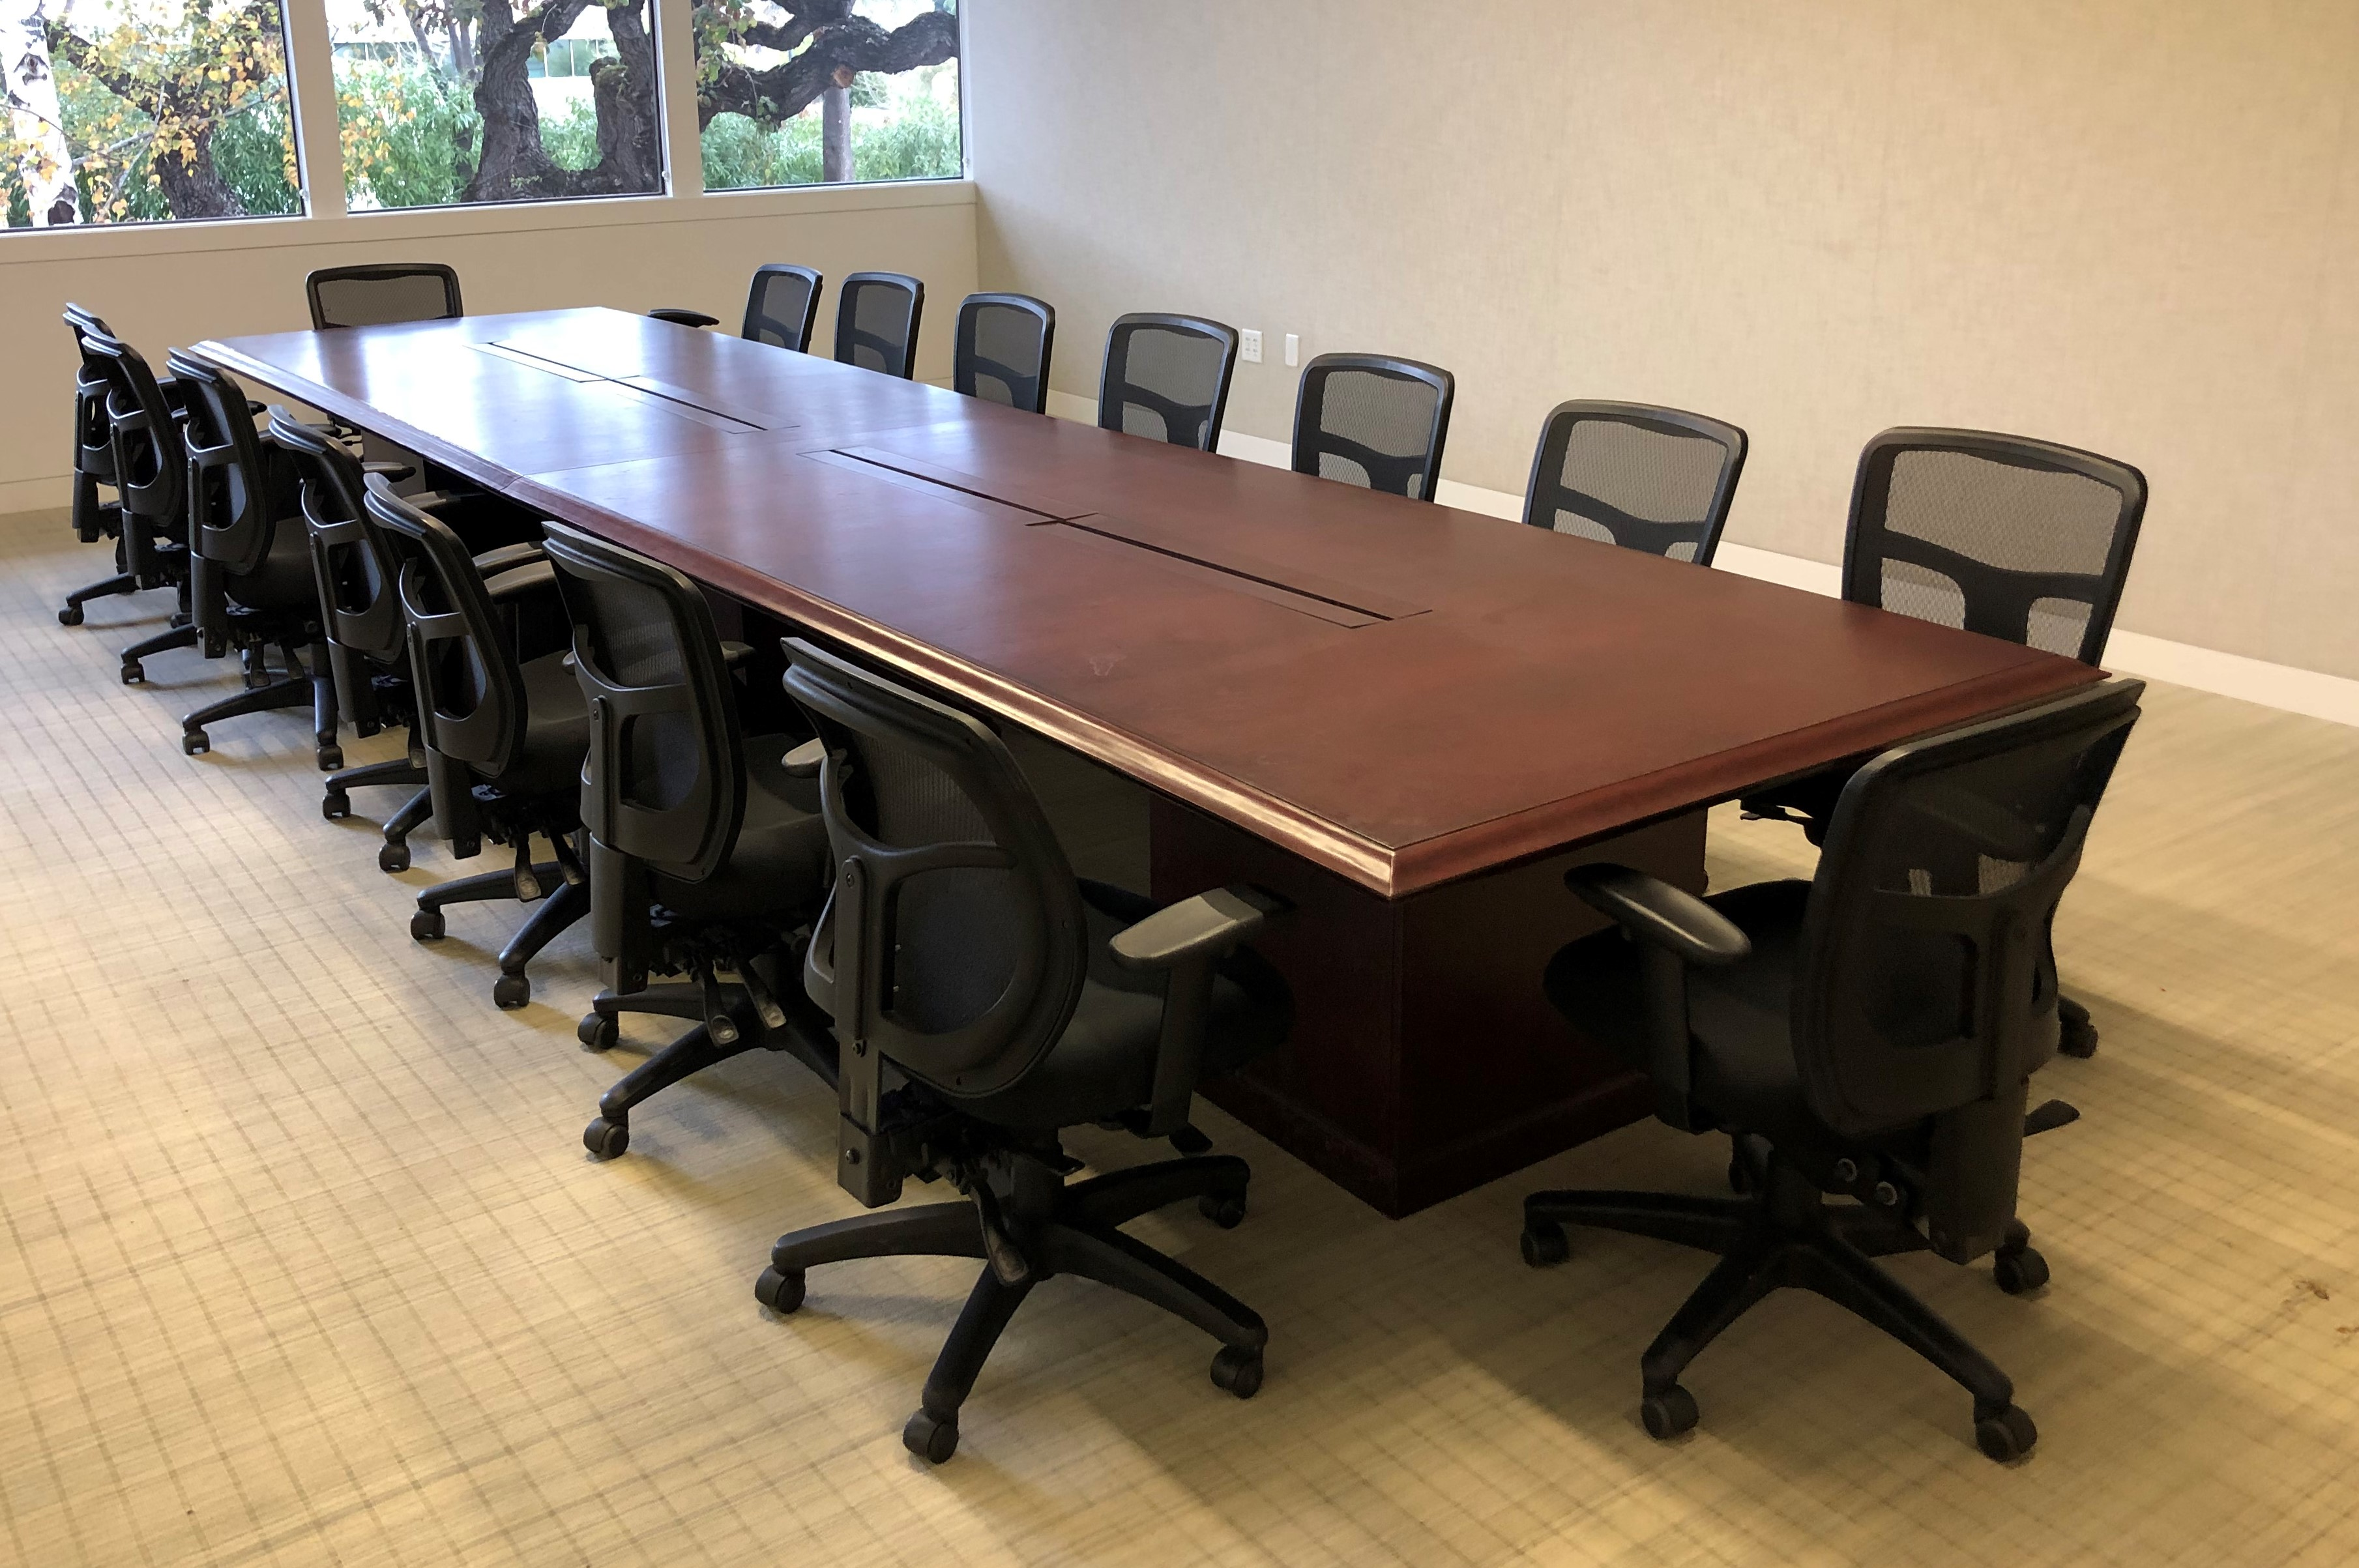conference_table: (189, 300, 2115, 1224)
